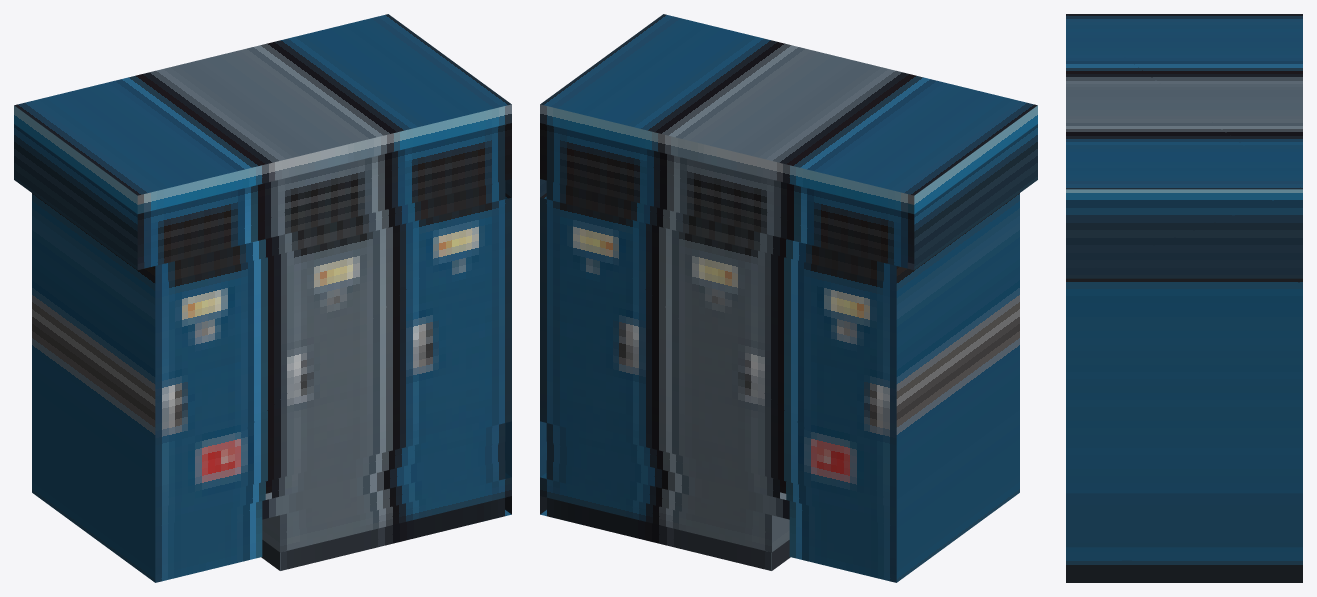
Rendered from locker.obj.
The picture shows the model from 3 angles, left to right: view 1: azimuth 30°, elevation 25°; view 2: azimuth 150°, elevation 25°; view 3: azimuth 270°, elevation 25°; orthographic projection. The views are drawn at different scales.
Bounding box in the file's own units: 0.792 × 0.8297 × 0.4525.
